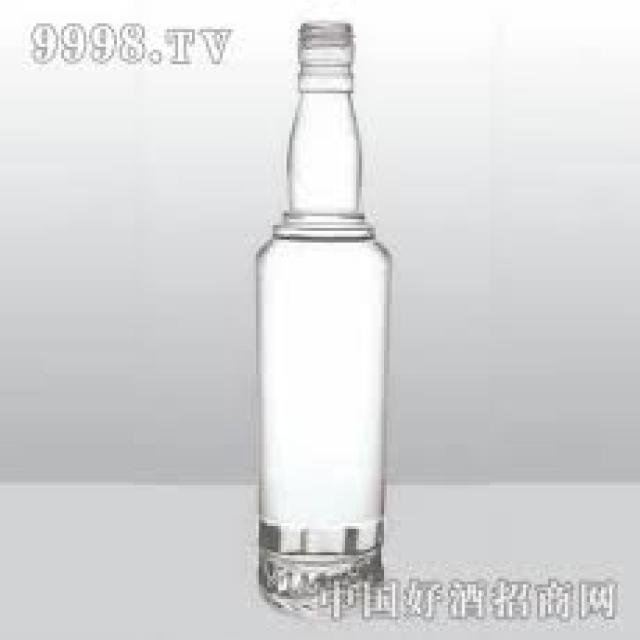Glass: (253, 21, 387, 617)
